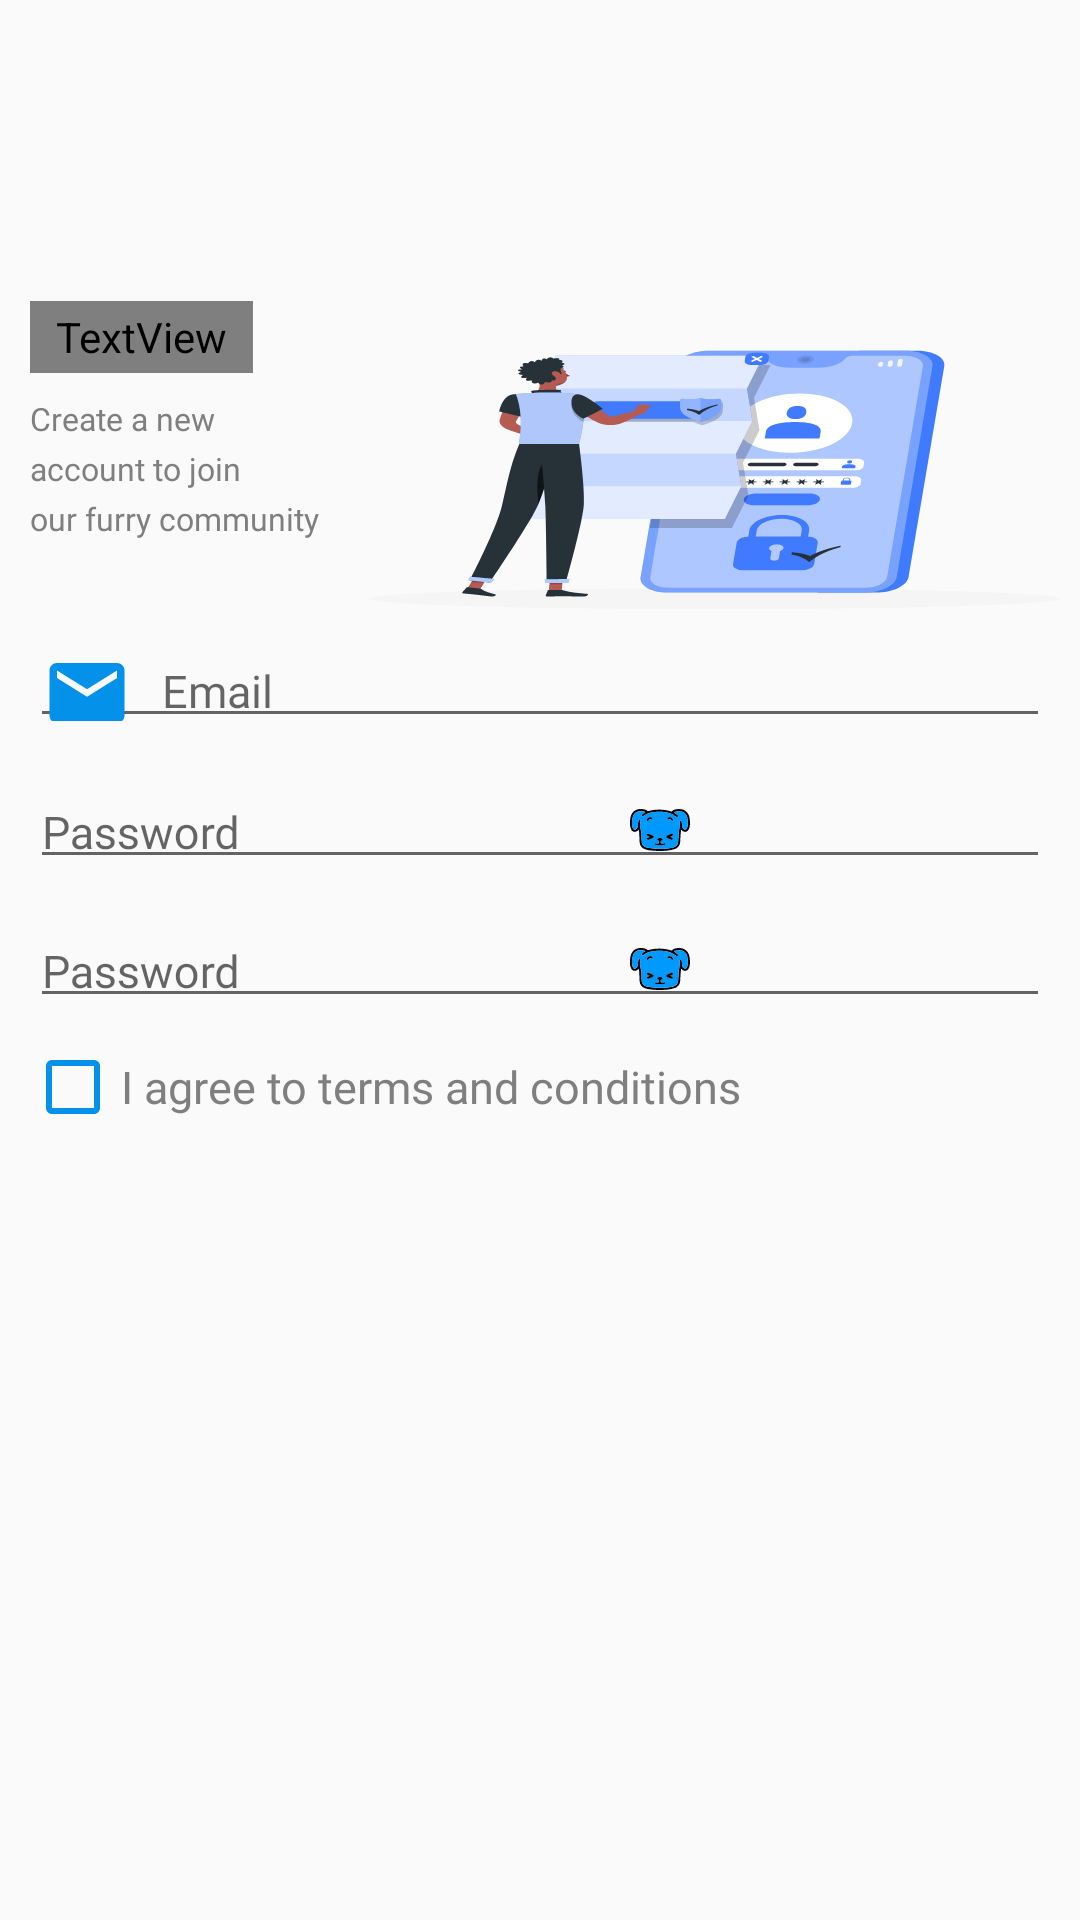

Named icons in this screenshot (1080x1920) and their centers, (x,y):
dog eyes close: (660,830), (660,969)
